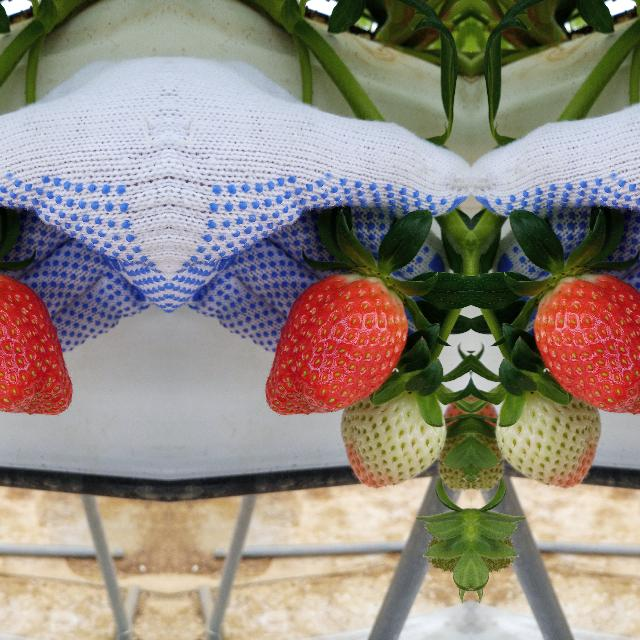Health_100: (263, 274, 407, 414), (534, 274, 640, 414), (0, 274, 73, 414)
Health_50: (338, 384, 439, 486), (502, 384, 602, 486)
